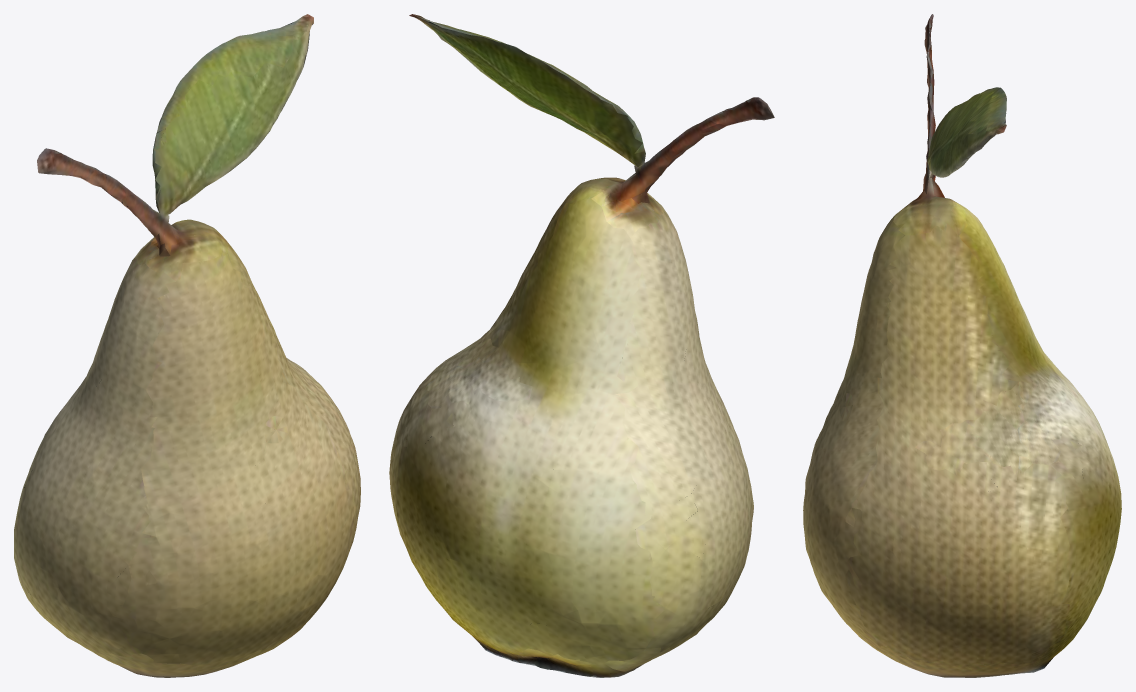
File: 14_15_24_20_a-single-pear.glb
3 renders of one model, left to right at view 1: azimuth 30°, elevation 25°; view 2: azimuth 150°, elevation 25°; view 3: azimuth 270°, elevation 25°, orthographic. The views are drawn at different scales.
Visible parts, largest first — view 1: world; view 2: world; view 3: world.
Part boxes in pixels (<box>): world: <box>14,14,360,677</box>; world: <box>389,14,774,677</box>; world: <box>803,14,1121,677</box>.
Bounding box in the file's own units: 0.5309 × 0.9114 × 0.4405.
1 material, 1 textured.
